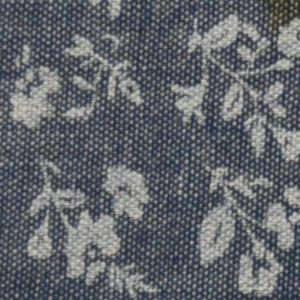Stain: (253, 1, 300, 44)
